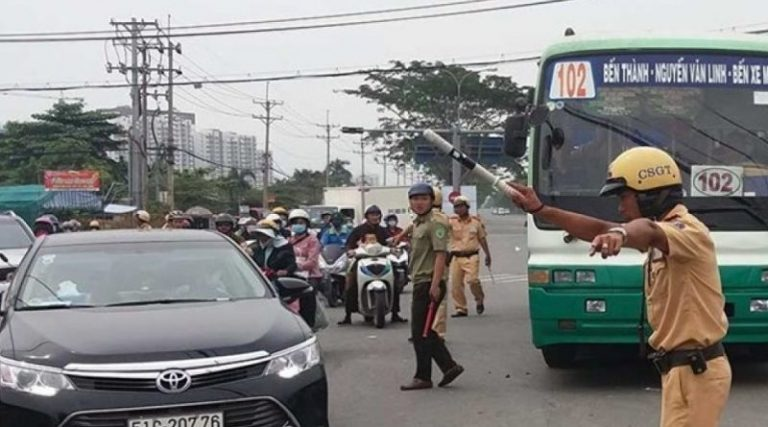police: (484, 147, 751, 425)
